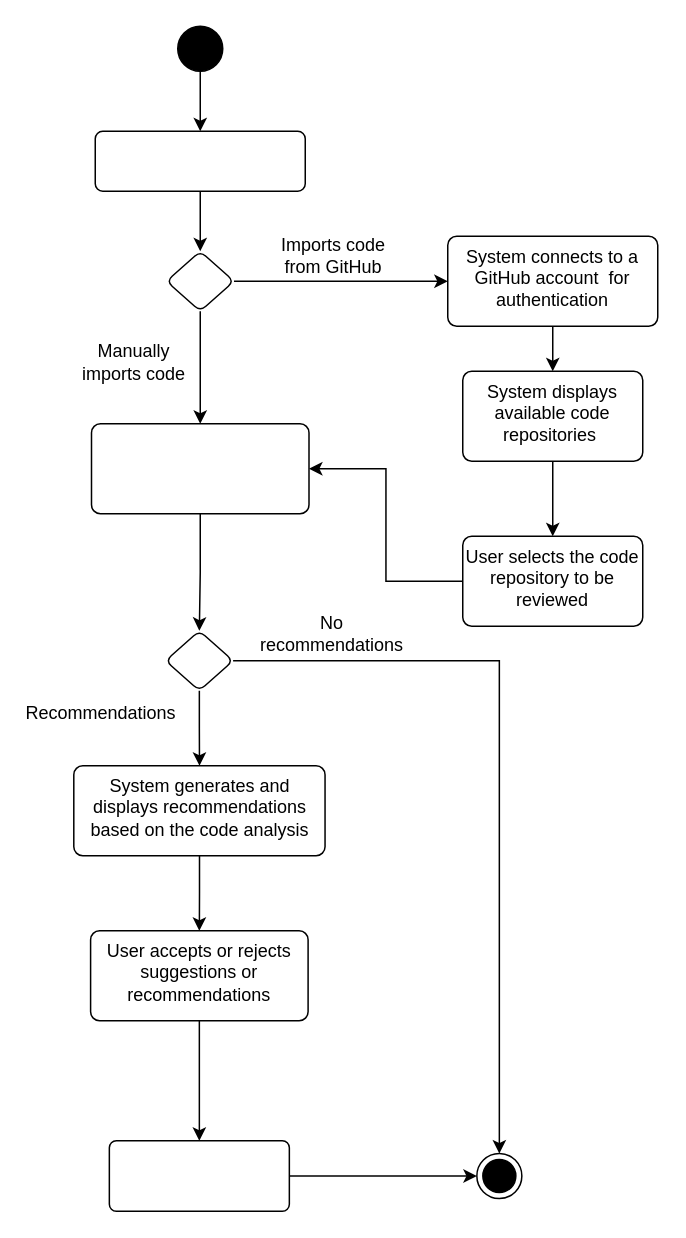
Image size: 686x1238. Some labels were removed from this diagram. Each missing label, with the centre of its shape:
"System conducts analysis on the imported code and generates a report" goes at point (199, 468).
"User downloads the reviewed code" goes at point (198, 1175).
"User imports code into the system" goes at point (199, 160).
